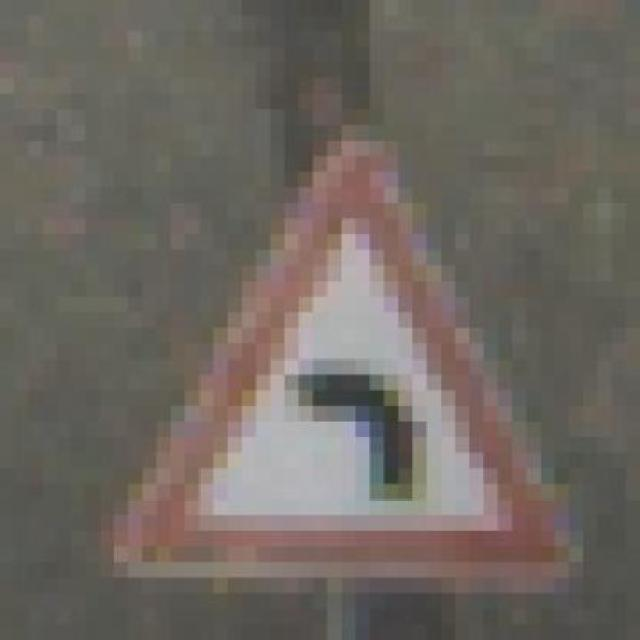Dangerous Left Curve Ahead: (85, 108, 583, 578)
